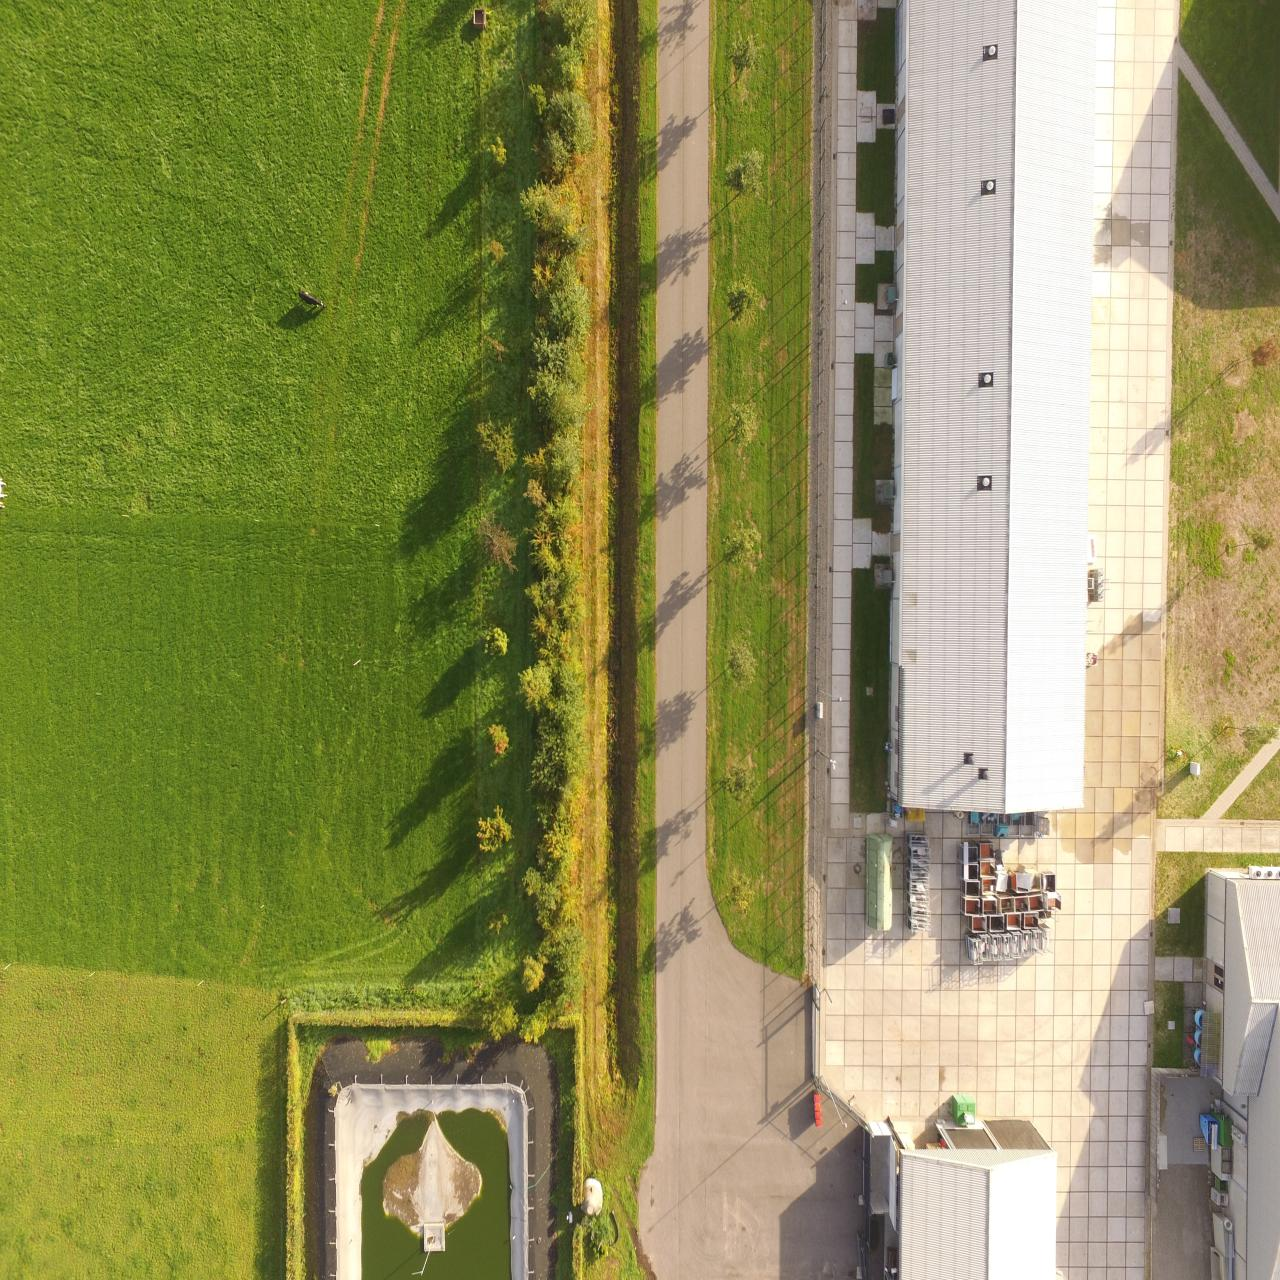cow: (293, 275, 321, 327)
